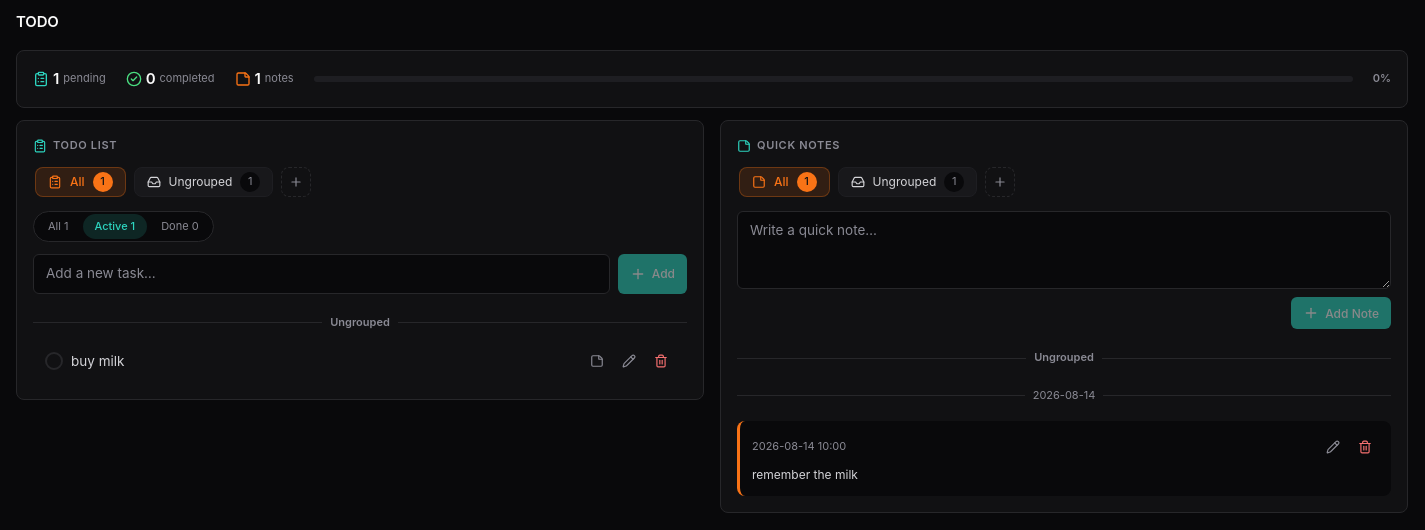
Scenario: TodoPage › sends only one request when the add button is clicked twice rapidly
The image size is (1425, 530).
Expected: the text "buy milk" is shown, [71, 353, 124, 369]
Type "dup task" into the field with placeholder "Add a new task…" at coordinates (321, 274), box [33, 254, 610, 294]
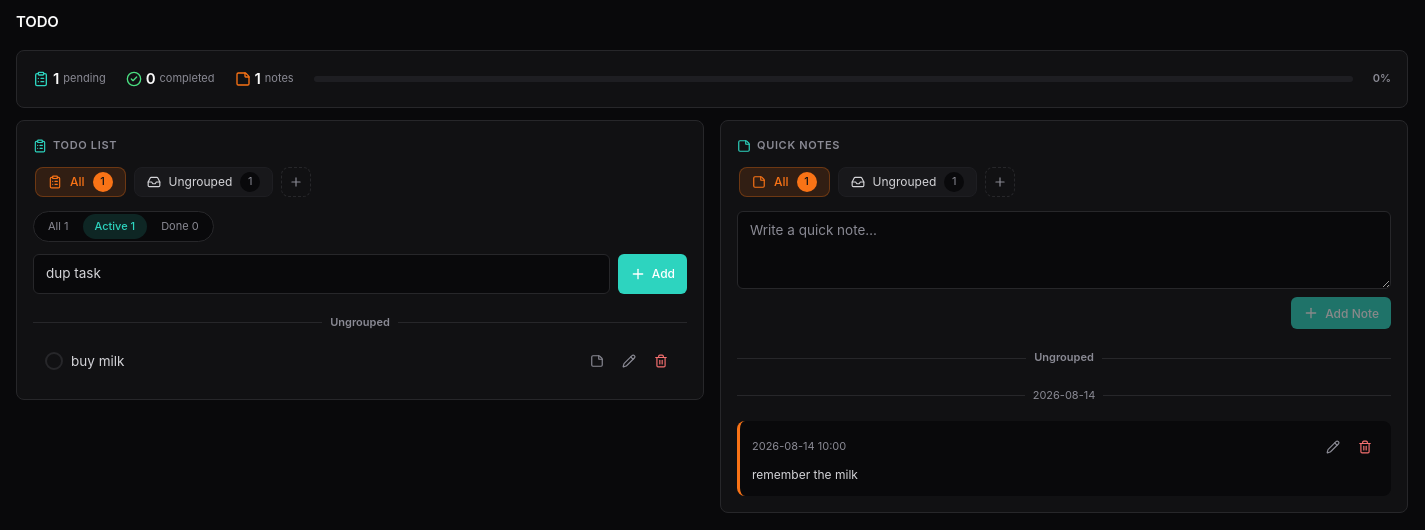
Click the button "Add" at coordinates (652, 274), box [618, 254, 687, 294]
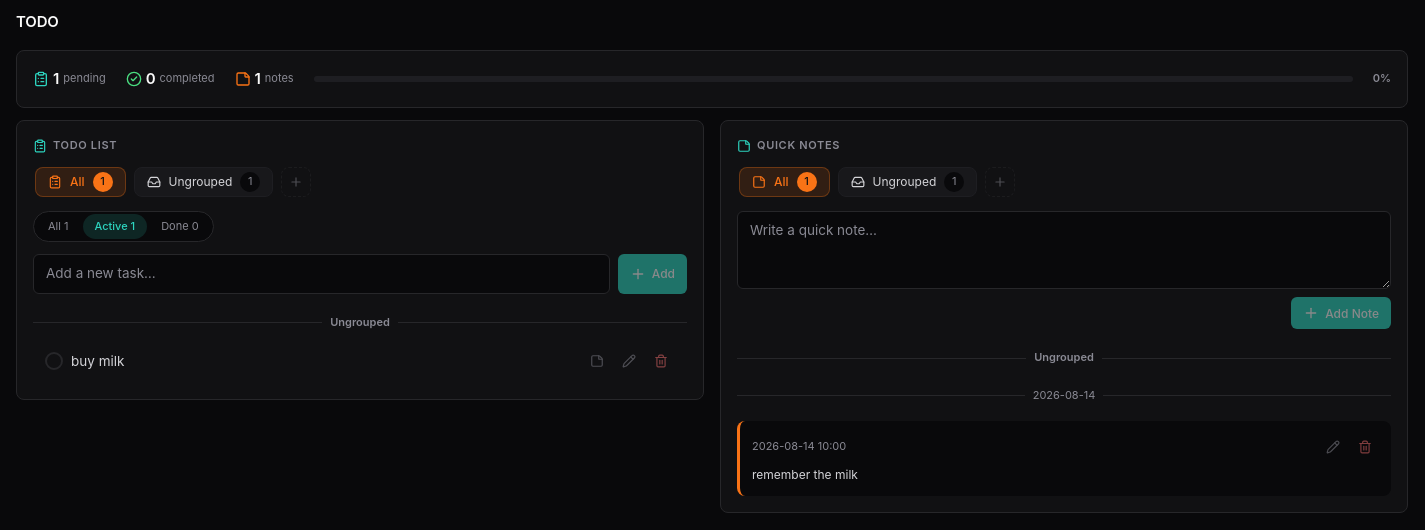
Click the button "Add" at coordinates (652, 274), box [618, 254, 687, 294]
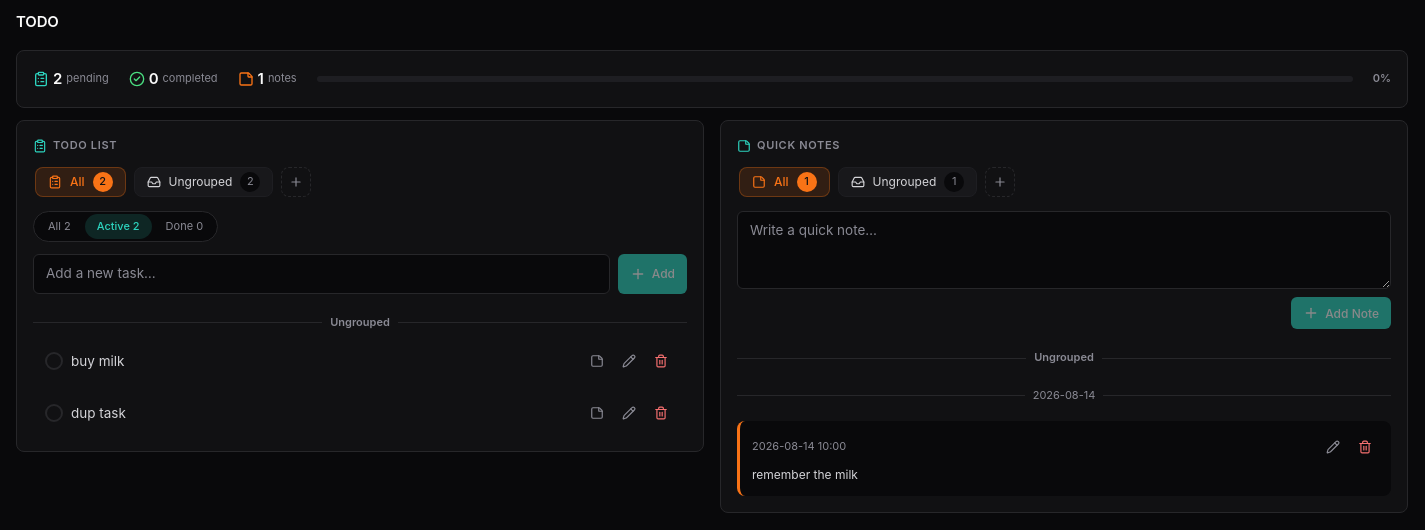
Now the text "dup task" is shown, box [71, 405, 126, 421]
